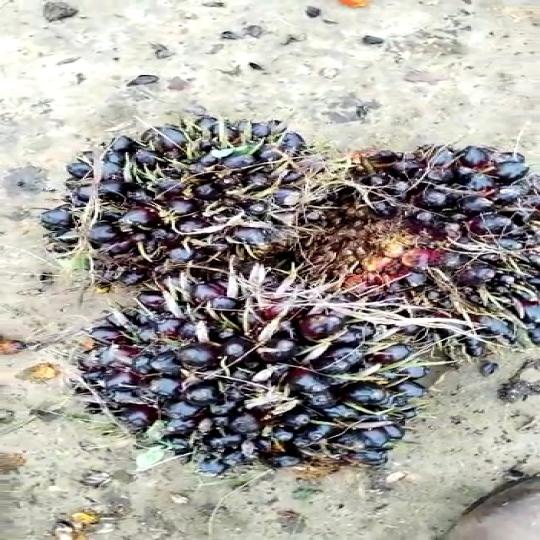mentah: (78, 288, 440, 495), (50, 111, 346, 288), (310, 132, 540, 342)
